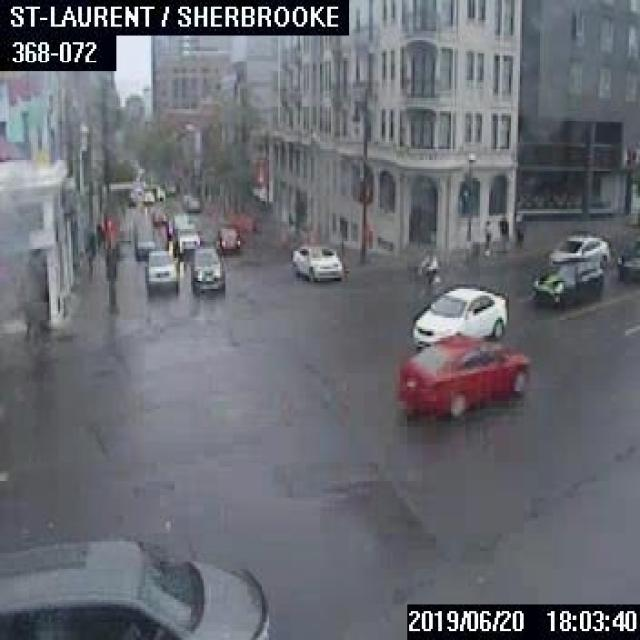cyclist: (416, 245, 438, 302)
pedestrian: (480, 211, 491, 247), (513, 210, 523, 247), (496, 209, 506, 245)
vehicle: (0, 531, 269, 638), (395, 329, 527, 418), (411, 283, 506, 349), (533, 256, 602, 302), (546, 231, 609, 268), (289, 243, 342, 280), (189, 245, 224, 290), (144, 249, 176, 289), (615, 238, 638, 282), (171, 223, 199, 258), (215, 226, 240, 255), (134, 228, 154, 257), (186, 194, 200, 210)
